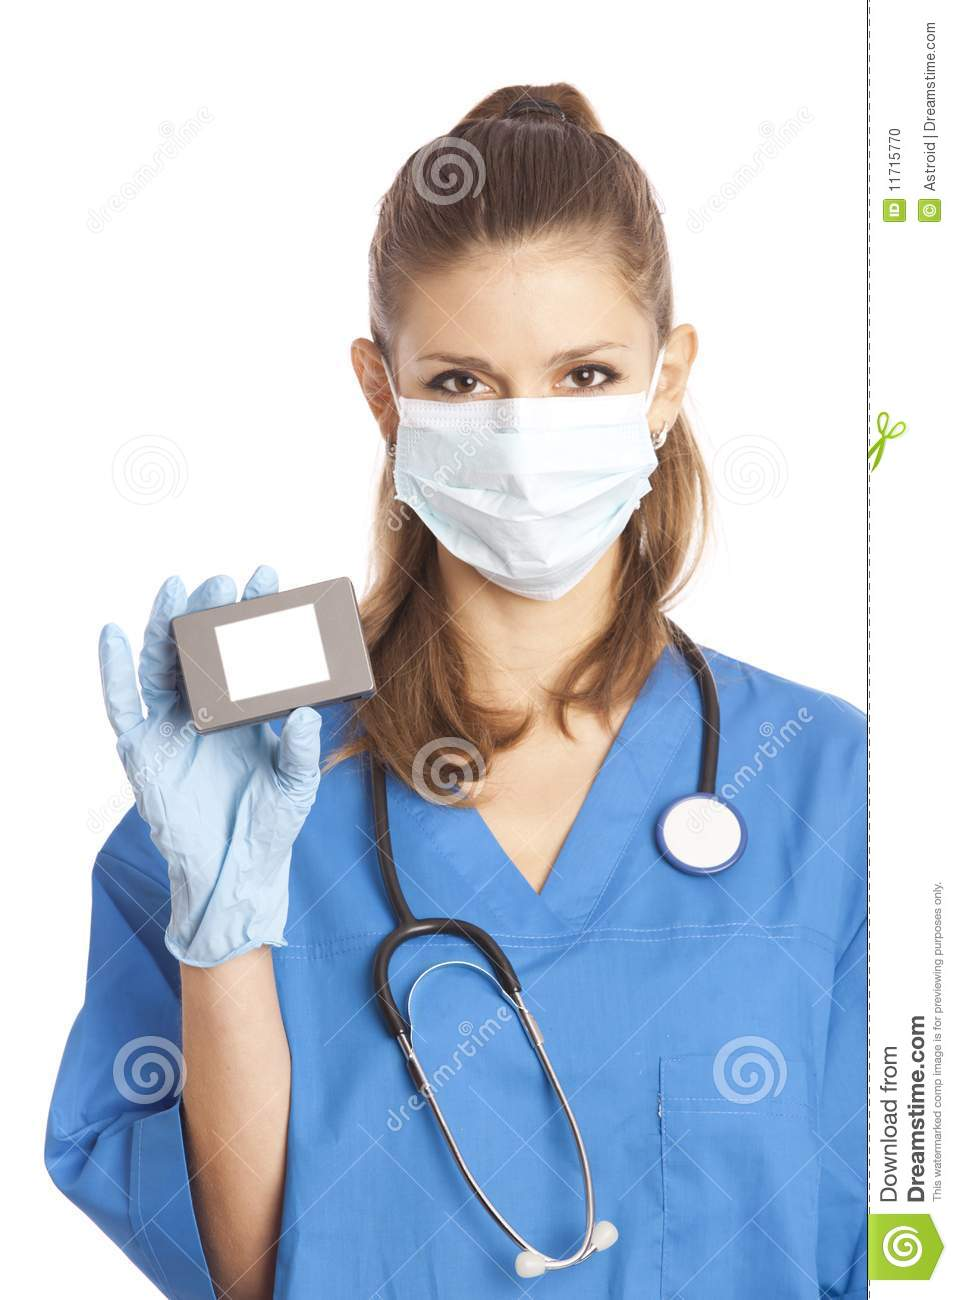mask: (396, 389, 650, 613)
